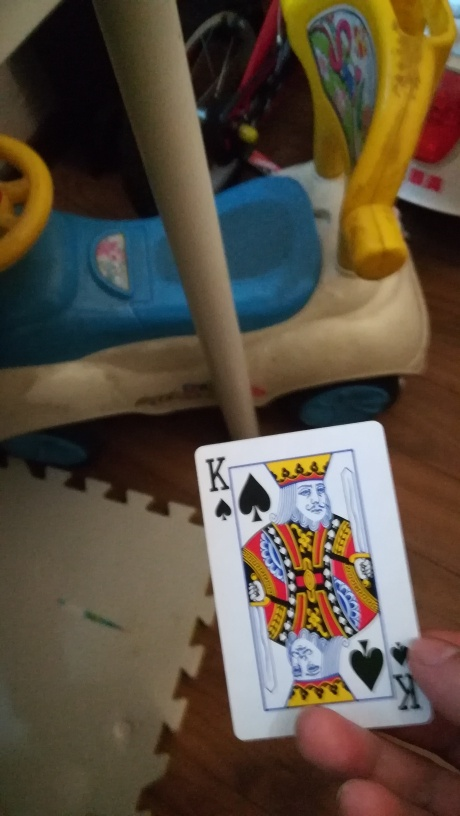ht k: (191, 417, 437, 752)
